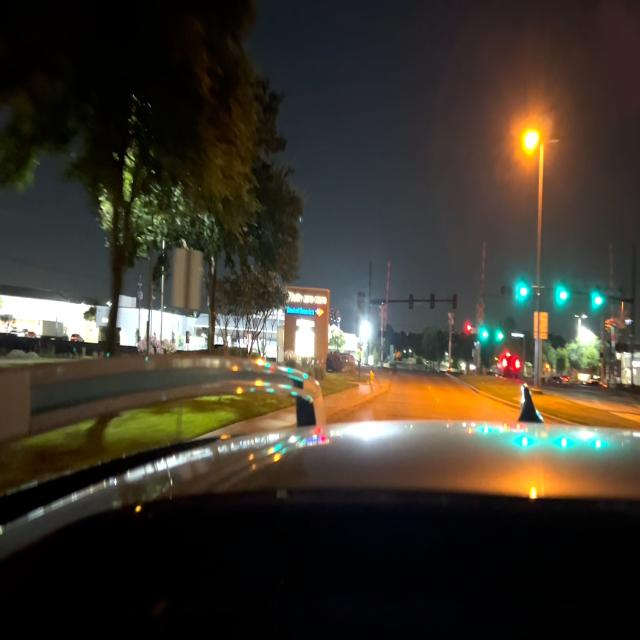back-of-sign: (172, 246, 202, 309)
